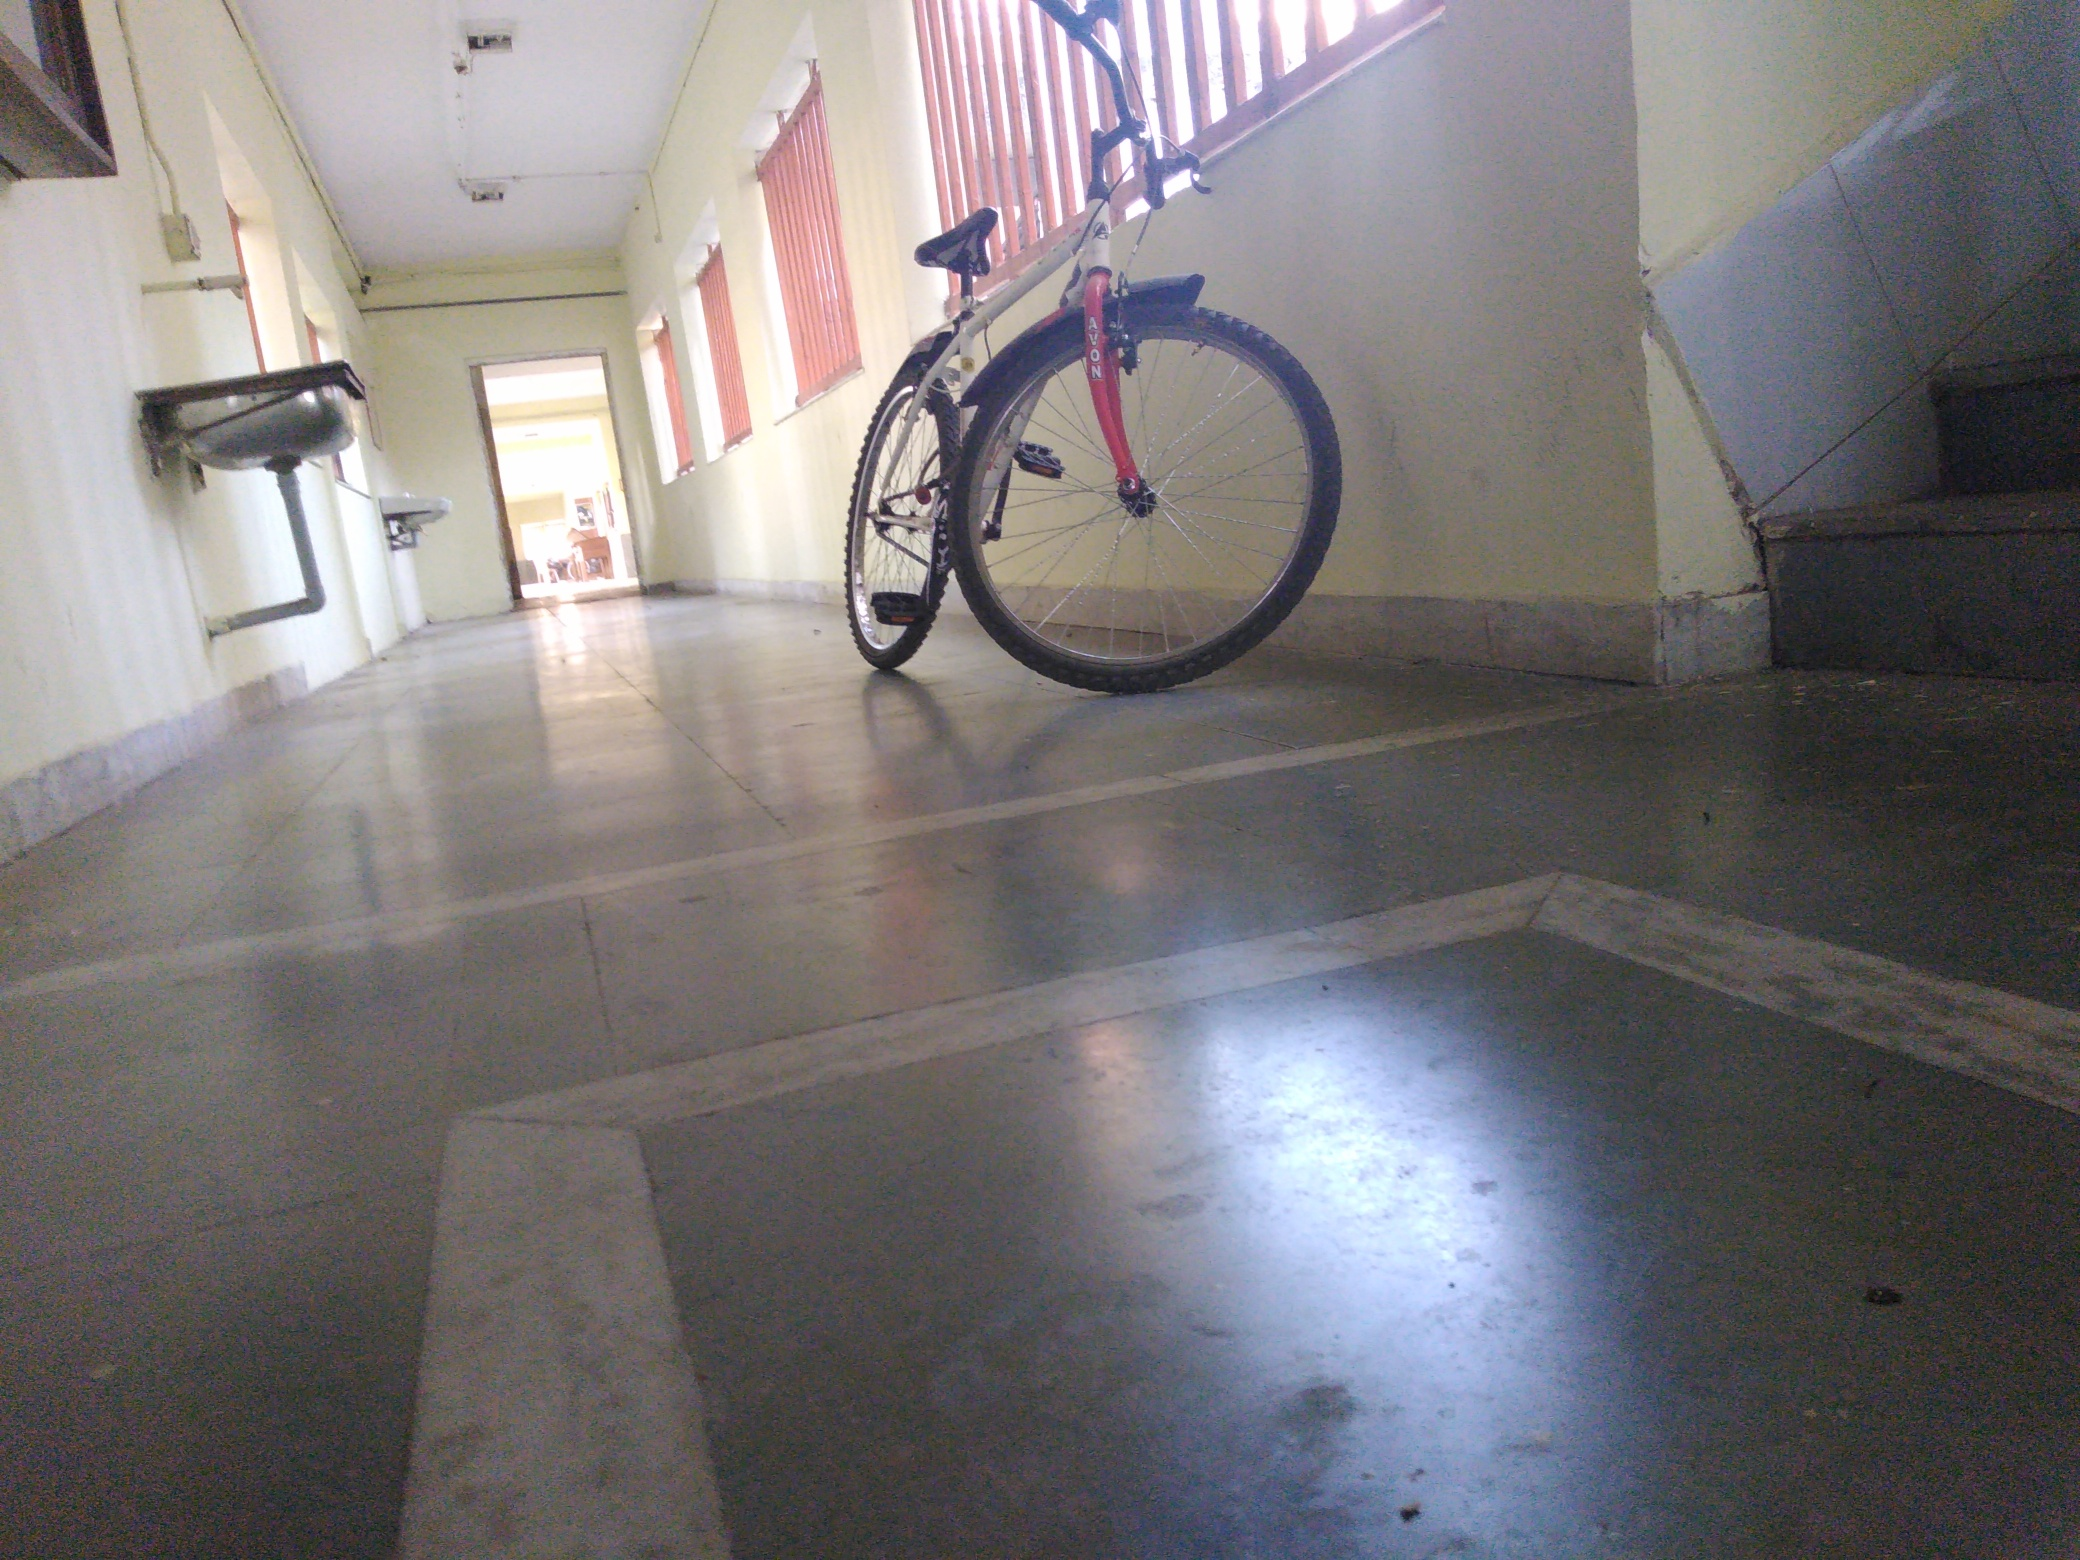stairs_up: (1743, 341, 2080, 710)
